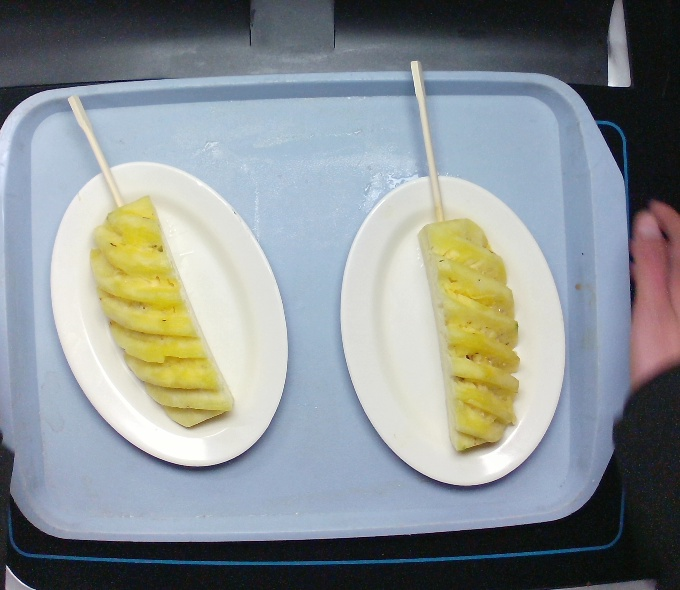wcq-BoLuo: (87, 167, 249, 433), (408, 175, 527, 457)
